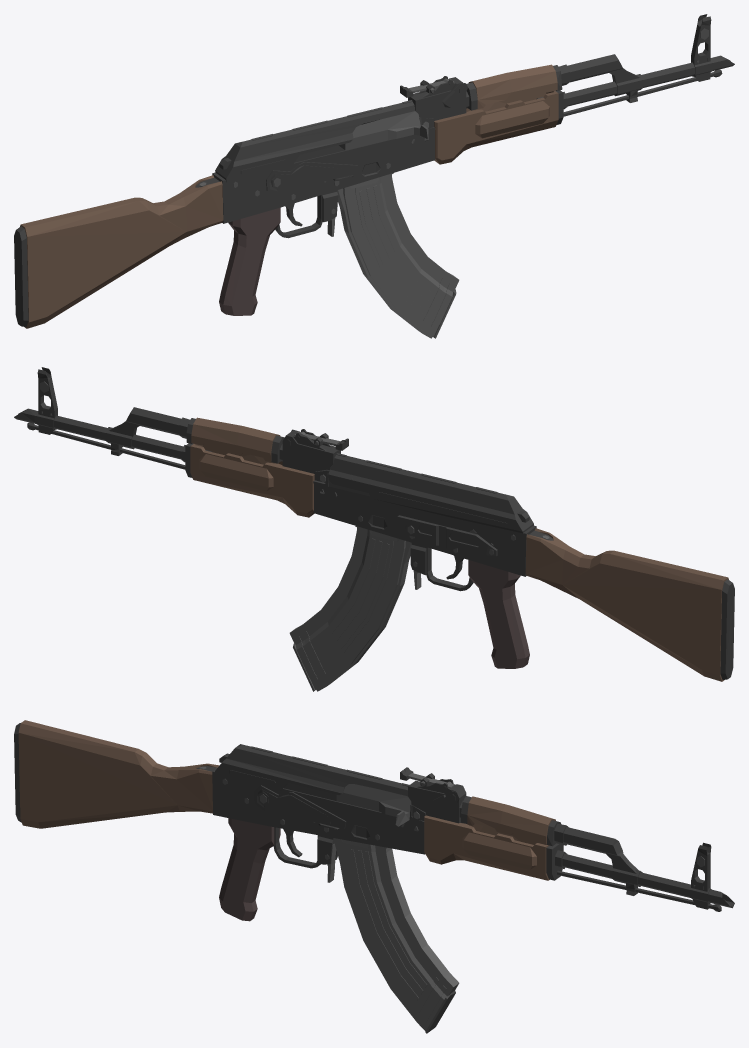
Rendered from heavyrifle.glb.
3 views of the same model, one above another, from view 1: azimuth 30°, elevation 25°; view 2: azimuth 150°, elevation 25°; view 3: azimuth 330°, elevation 25° (orthographic).
Visible parts, largest first — view 1: Object_24, Object_35, Object_30, Object_34, Object_25; view 2: Object_24, Object_35, Object_30, Object_34, Object_25; view 3: Object_24, Object_35, Object_30, Object_34, Object_25.
Boxes of the visible parts, box(x1,y1,x2,y2) form: Object_24: box(14, 14, 734, 326); Object_35: box(20, 64, 558, 328); Object_30: box(199, 78, 459, 338); Object_34: box(219, 207, 280, 315); Object_25: box(233, 28, 708, 338); Object_24: box(14, 367, 734, 679); Object_35: box(190, 417, 728, 681); Object_30: box(289, 431, 549, 691); Object_34: box(468, 560, 529, 668); Object_25: box(40, 381, 515, 691); Object_24: box(14, 723, 734, 911); Object_35: box(18, 720, 555, 880); Object_30: box(199, 766, 459, 1031); Object_34: box(219, 818, 280, 921); Object_25: box(222, 779, 704, 1033).
Size of the model in its own units: 0.88 by 0.2999 by 0.0519.
